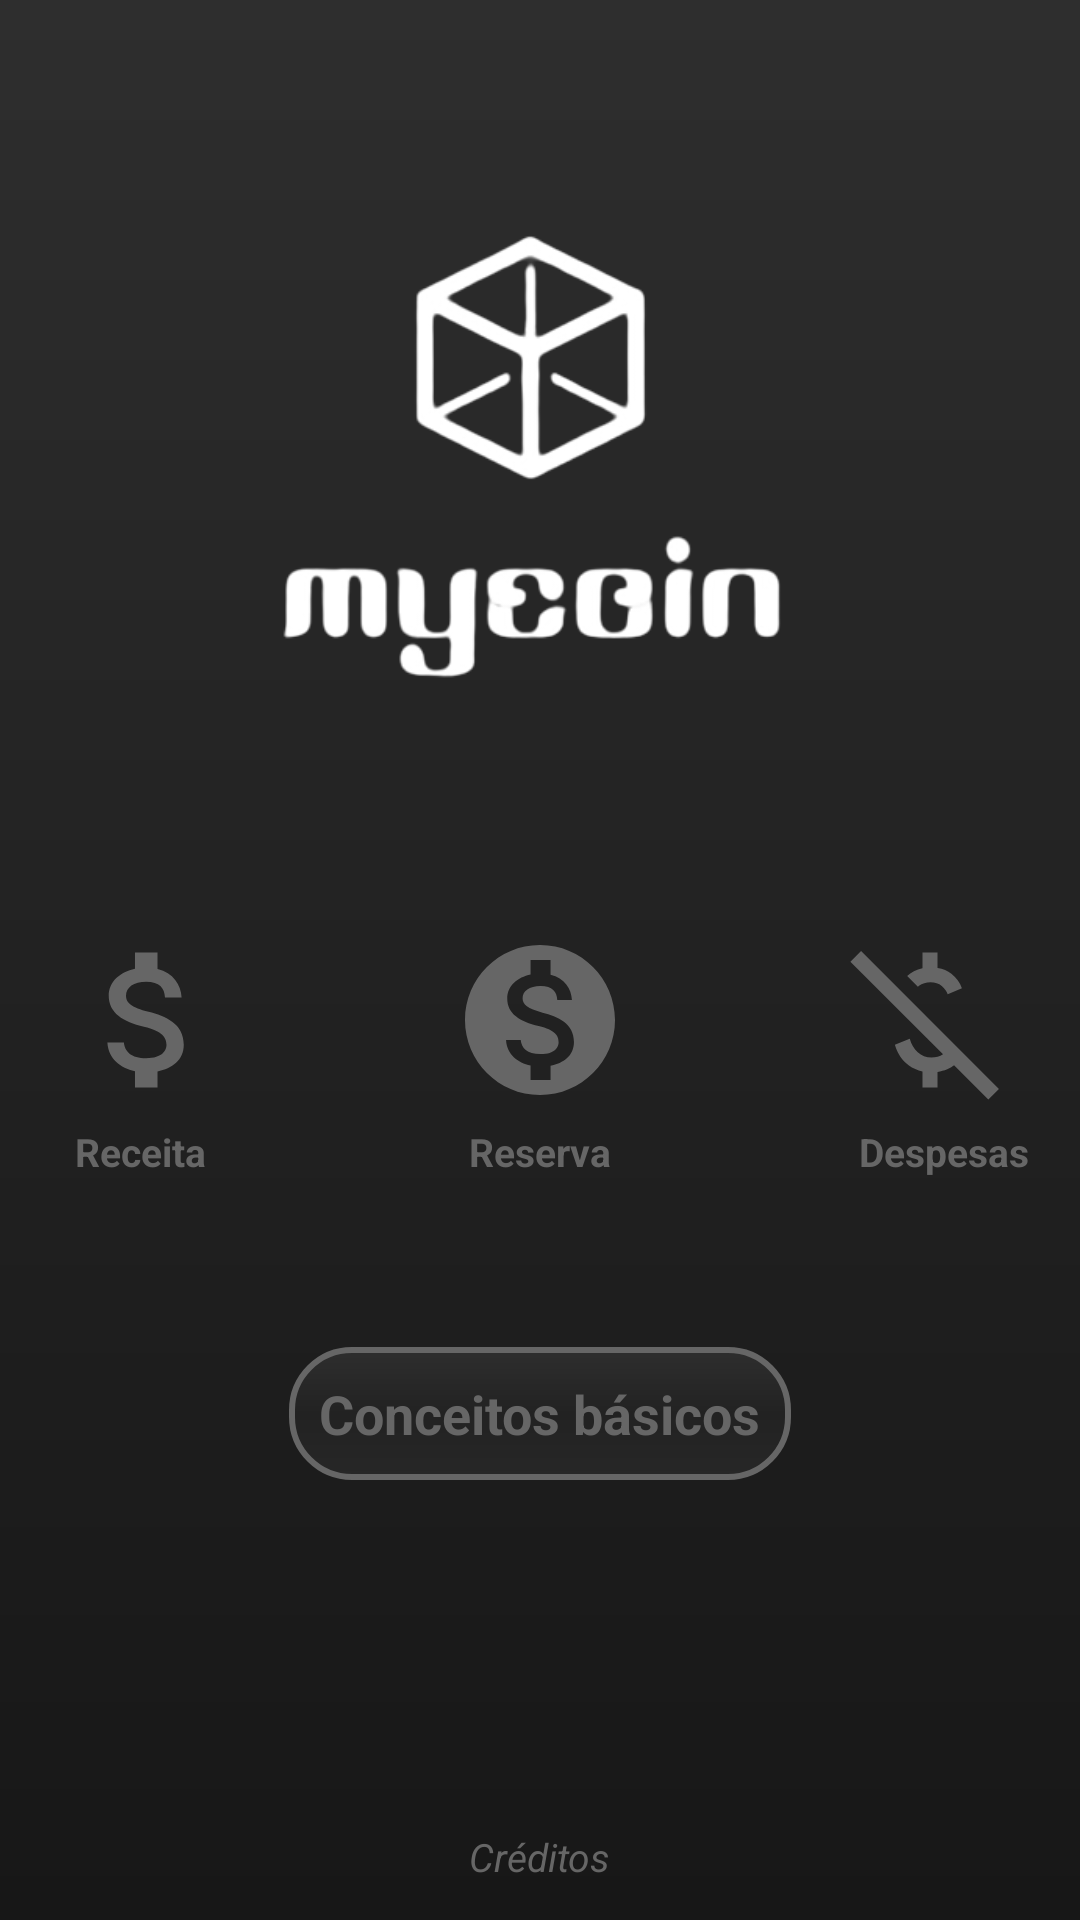

Named icons in this screenshot (1080 x 1920) and their centers, (x,y):
iconreceita: (145,1020)
